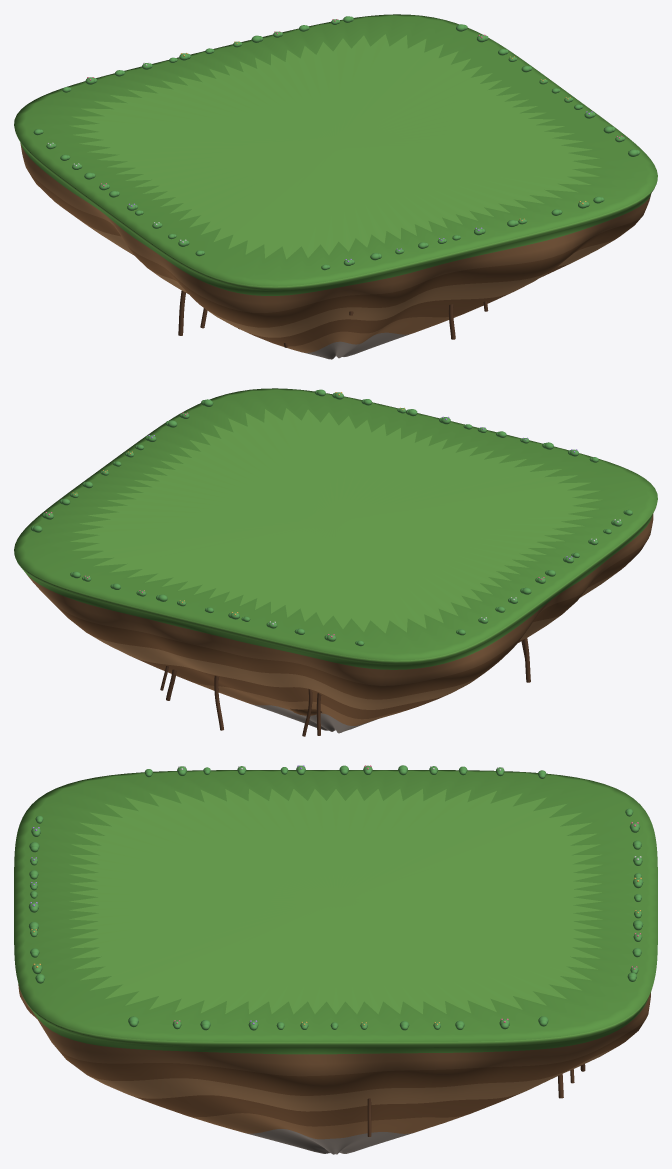
File: island.glb
The picture shows the model from 3 angles, top to bottom: view 1: azimuth 30°, elevation 25°; view 2: azimuth 150°, elevation 25°; view 3: azimuth 270°, elevation 25°; orthographic projection. The views are drawn at different scales.
Visible parts, largest first — view 1: island; view 2: island; view 3: island.
Part boxes in pixels (bbox=[...]): island: bbox=[14, 14, 657, 359]; island: bbox=[14, 388, 657, 736]; island: bbox=[14, 765, 657, 1154].
Size of the model in its own units: 9.27 by 4.11 by 9.27.
